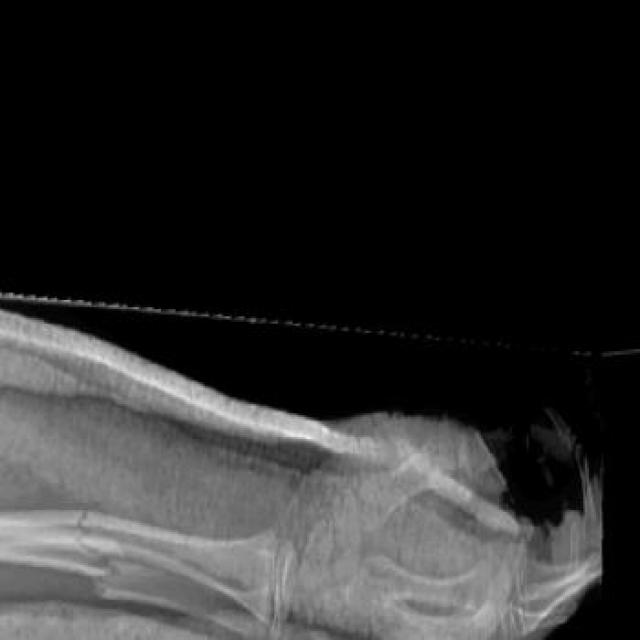Fracture: (67, 486, 101, 564)
